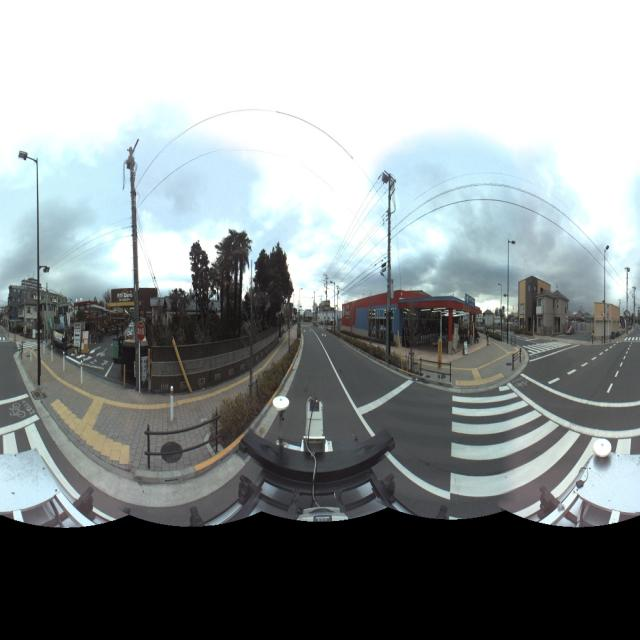b_1: (8, 277, 68, 330), (536, 292, 572, 344), (515, 274, 537, 332), (594, 299, 620, 346)
